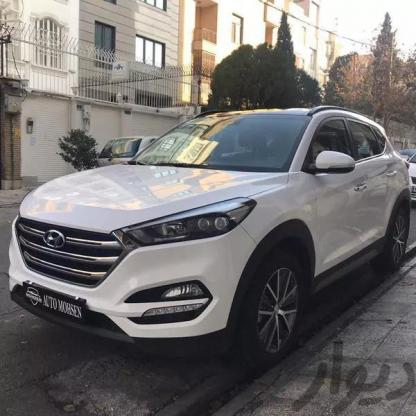Car: (5, 115, 416, 350), (91, 133, 156, 167), (381, 167, 416, 224)
